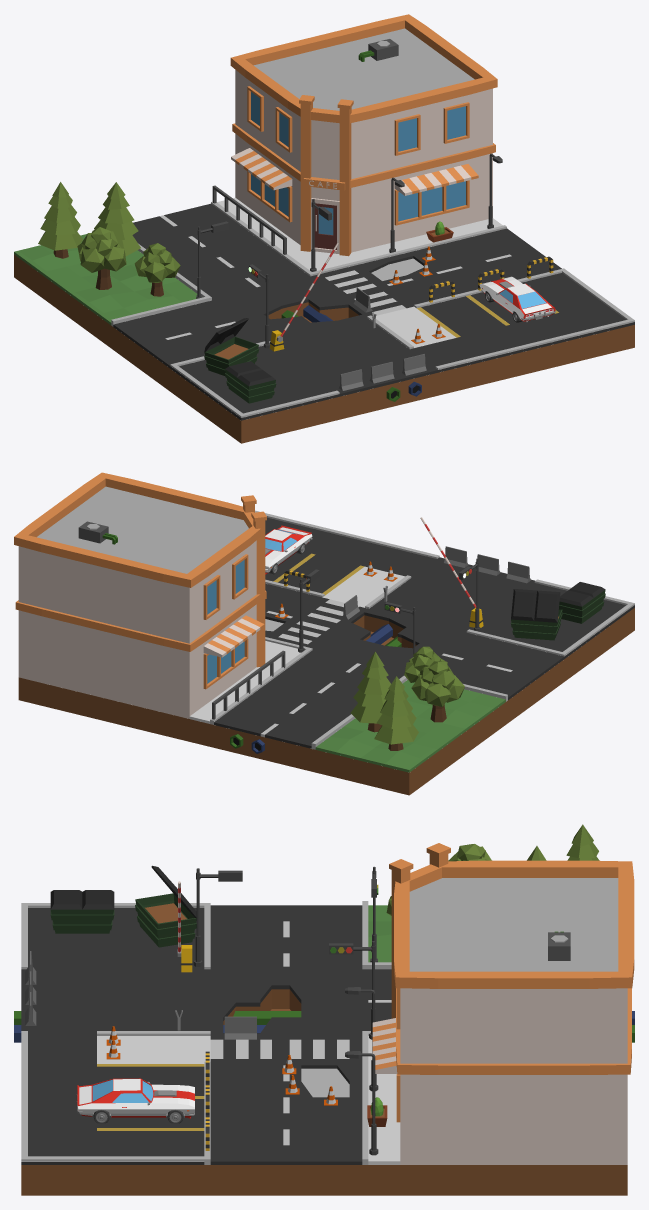
The model's file is low_poly_city_diorama_scene.glb.
3 renders of one model, top to bottom at view 1: azimuth 30°, elevation 25°; view 2: azimuth 150°, elevation 25°; view 3: azimuth 270°, elevation 25°, orthographic. The views are drawn at different scales.
Parts seen in each view (by area): view 1: Plane_0, Plane.005_22, Plane.007_23, Car_31, Plane.008_2, Plane.006_1, Plane.009_3, Plane.002_12; view 2: Plane_0, Plane.008_2, Plane.005_22, Plane.007_23, Plane.006_1, Plane.009_3, Car_31, Plane.002_12; view 3: Plane_0, Car_31, Plane.009_3, Plane.008_2, Plane.016_8, Cube.002_13, Plane.005_22, Plane.010_17, Plane.015_7, Plane.007_23.
Part boxes in pixels (x1,y1,x2,y2): Plane_0: (14, 14, 634, 443); Plane.005_22: (38, 182, 82, 258); Plane.007_23: (77, 227, 126, 289); Car_31: (479, 276, 555, 321); Plane.008_2: (204, 318, 258, 375); Plane.006_1: (94, 182, 140, 256); Plane.009_3: (225, 361, 276, 403); Plane.002_12: (134, 243, 180, 296); Plane_0: (14, 472, 634, 795); Plane.008_2: (511, 589, 562, 640); Plane.005_22: (374, 676, 418, 750); Plane.007_23: (411, 661, 464, 722); Plane.006_1: (350, 651, 390, 732); Plane.009_3: (559, 582, 605, 623); Car_31: (265, 525, 312, 574); Plane.002_12: (404, 646, 447, 682); Plane_0: (14, 843, 634, 1195); Car_31: (76, 1078, 194, 1118); Plane.009_3: (50, 890, 114, 933); Plane.008_2: (135, 865, 196, 947); Plane.016_8: (193, 868, 242, 966); Cube.002_13: (224, 1016, 256, 1039); Plane.005_22: (566, 824, 599, 860); Plane.010_17: (345, 1051, 378, 1155); Plane.015_7: (329, 941, 376, 1039); Plane.007_23: (448, 844, 491, 861).
Size of the model in its own units: 23.64 by 10.04 by 23.95.
